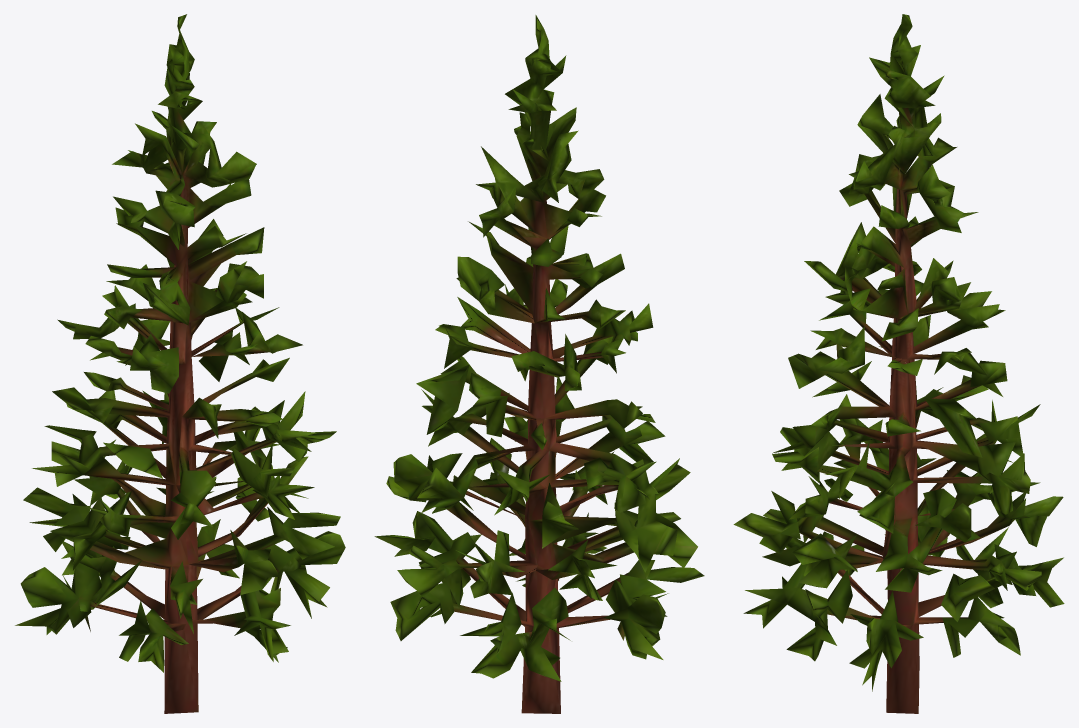
Rendered from cedar-mid.glb.
3 views of the same model, side by side, from view 1: azimuth 30°, elevation 25°; view 2: azimuth 150°, elevation 25°; view 3: azimuth 270°, elevation 25° (orthographic).
Visible parts, largest first — view 1: tripo_node_f41416f3-ca7f-48fa-8aa8-18ea0b716c47; view 2: tripo_node_f41416f3-ca7f-48fa-8aa8-18ea0b716c47; view 3: tripo_node_f41416f3-ca7f-48fa-8aa8-18ea0b716c47.
Boxes of the visible parts, left/top/right/bottom form: tripo_node_f41416f3-ca7f-48fa-8aa8-18ea0b716c47: left=15, top=14, right=345, bottom=713; tripo_node_f41416f3-ca7f-48fa-8aa8-18ea0b716c47: left=374, top=15, right=704, bottom=713; tripo_node_f41416f3-ca7f-48fa-8aa8-18ea0b716c47: left=733, top=14, right=1064, bottom=713.
Size of the model in its own units: 0.4394 by 1 by 0.4306.
1 material, 1 textured.
